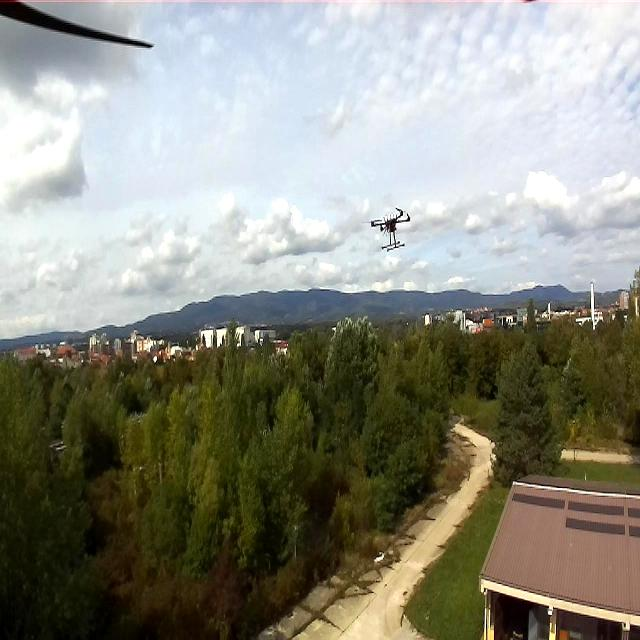drone: (369, 203, 413, 256)
